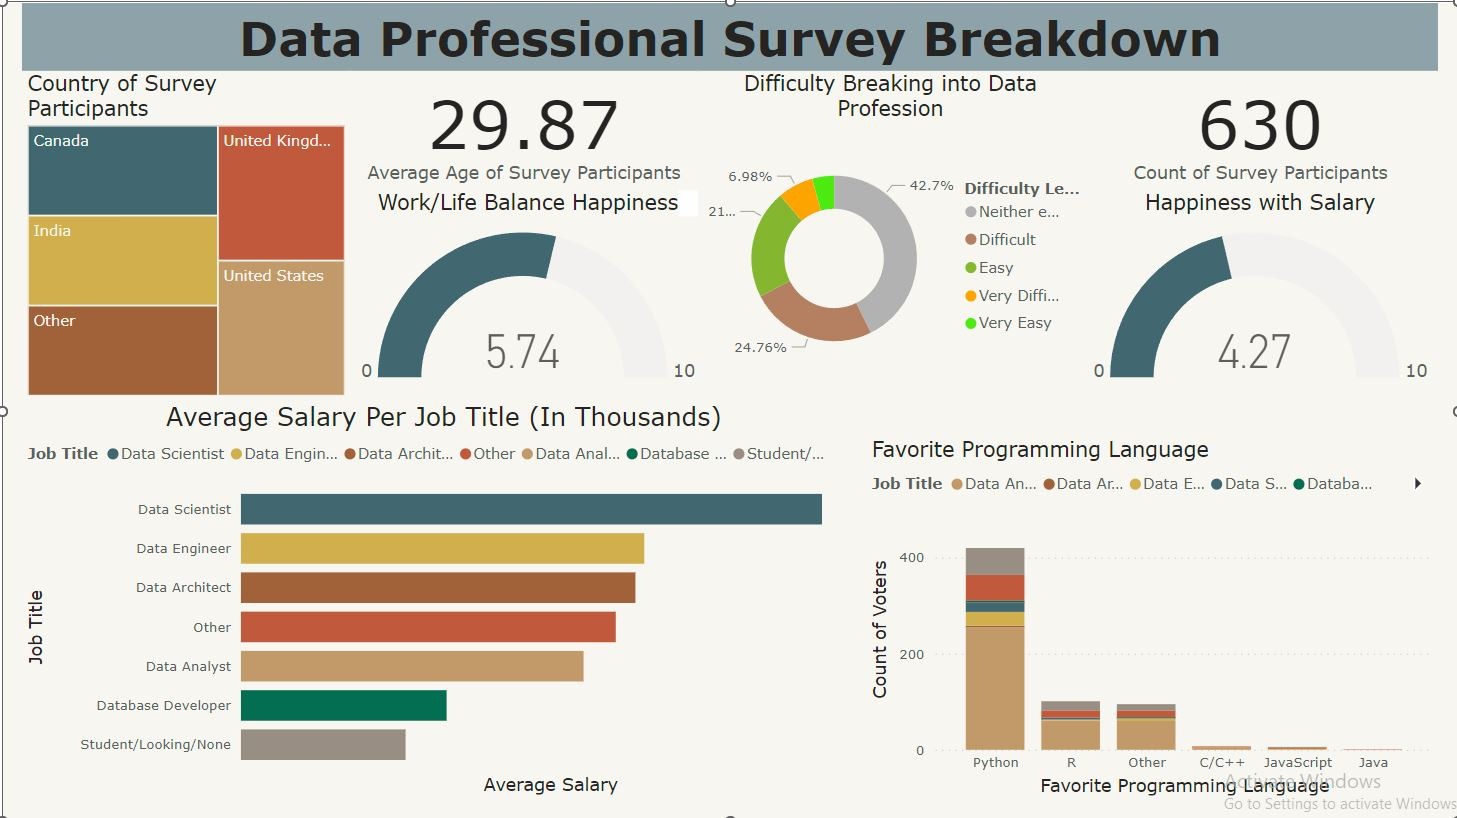

What the dashboard file says about the page in this screenshot:
{"tool":"powerbi","page":{"name":"Page 1","canvas":[1280,720],"ordinal":0},"visuals":[{"type":"textbox","box":[0,0,1280,61.6],"z":0},{"type":"card","fields":{"Values":["CountNonNull(Data Professional Survey.Unique ID)"]},"box":[958,61.6,322,107.3],"z":1000},{"type":"card","fields":{"Values":["Avg(Data Professional Survey.Q10 - Current Age)"]},"box":[458.1,414.4,181.9,150.1],"z":2000},{"type":"barChart","title":"Average Salary Per Job Title (In Thousands)","fields":{"Category":["Data Professional Survey.Q1 - Which Title Best Fits your Current Role?.1"],"Y":["Avg(Data Professional Survey.Average Salary)"],"Series":["Data Professional Survey.Q1 - Which Title Best Fits your Current Role?.1"]},"box":[0,359.8,762.2,360.7],"z":3000},{"type":"columnChart","title":"Favorite Programming Language","fields":{"Category":["Data Professional Survey.Q5 - Favorite Programming Language.1"],"Y":["CountNonNull(Data Professional Survey.Unique ID)"],"Series":["Data Professional Survey.Q1 - Which Title Best Fits your Current Role?.1"]},"box":[762.2,391.6,517.8,328.9],"z":4000},{"type":"treemap","title":"Country of Survey Participants","fields":{"Group":["Data Professional Survey.Q11 - Which Country do you live in?.1"],"Values":["Count(Data Professional Survey.Q11 - Which Country do you live in?.1)"]},"box":[0,61.6,296.1,298.1],"z":5000},{"type":"gauge","title":"Work/Life Balance Happiness","fields":{"Y":["Avg(Data Professional Survey.Q6 - How Happy are you in your Current Position with the following? (Work/Life Balance))"],"MinValue":["Min(Data Professional Survey.Q6 - How Happy are you in your Current Position with the following? (Work/Life Balance))"],"MaxValue":["Max(Data Professional Survey.Q6 - How Happy are you in your Current Position with the following? (Work/Life Balance))1"]},"box":[296.1,168.9,322,190.8],"z":6000},{"type":"gauge","title":"Happiness with Salary","fields":{"Y":["Avg(Data Professional Survey.Q6 - How Happy are you in your Current Position with the following? (Salary))"],"MinValue":["Min(Data Professional Survey.Q6 - How Happy are you in your Current Position with the following? (Salary))"],"MaxValue":["Max(Data Professional Survey.Q6 - How Happy are you in your Current Position with the following? (Salary))"]},"box":[958,168.9,322,190.8],"z":7000},{"type":"donutChart","title":"Difficulty Breaking into Data Profession","fields":{"Category":["Data Professional Survey.Q7 - How difficult was it for you to break into Data?"],"Y":["CountNonNull(Data Professional Survey.Q7 - How difficult was it for you to break into Data?)"]},"box":[610.2,61.6,347.8,294.2],"z":8000},{"type":"card","fields":{"Values":["Avg(Data Professional Survey.Q10 - Current Age)"]},"box":[296.1,61.6,314,107.3],"z":9000}]}

Visuals, with their boxes on the page's 1280x720 design canvas (x1, y1, x2, y2). These are canvas units, not pixel positions in the 1457x818 screenshot, which may show the page scaled, cropped or inside an application window:
textbox: x1=0, y1=0, x2=1280, y2=62
card - CountNonNull(Data Professional Survey.Unique ID): x1=958, y1=62, x2=1280, y2=169
card - Avg(Data Professional Survey.Q10 - Current Age): x1=458, y1=414, x2=640, y2=564
"Average Salary Per Job Title (In Thousands)" barChart: x1=0, y1=360, x2=762, y2=720
"Favorite Programming Language" columnChart: x1=762, y1=392, x2=1280, y2=720
"Country of Survey Participants" treemap: x1=0, y1=62, x2=296, y2=360
"Work/Life Balance Happiness" gauge: x1=296, y1=169, x2=618, y2=360
"Happiness with Salary" gauge: x1=958, y1=169, x2=1280, y2=360
"Difficulty Breaking into Data Profession" donutChart: x1=610, y1=62, x2=958, y2=356
card - Avg(Data Professional Survey.Q10 - Current Age): x1=296, y1=62, x2=610, y2=169
